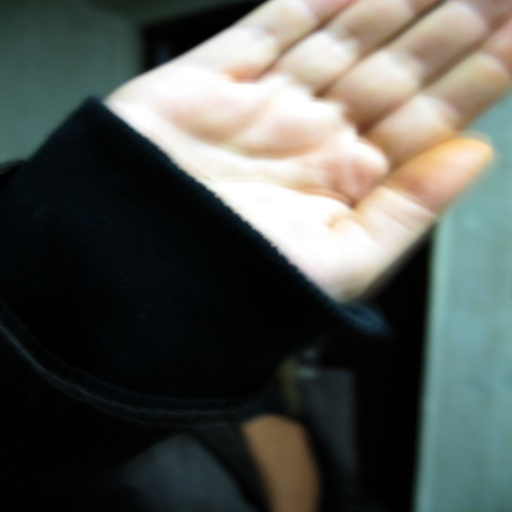hand: (35, 0, 512, 419)
